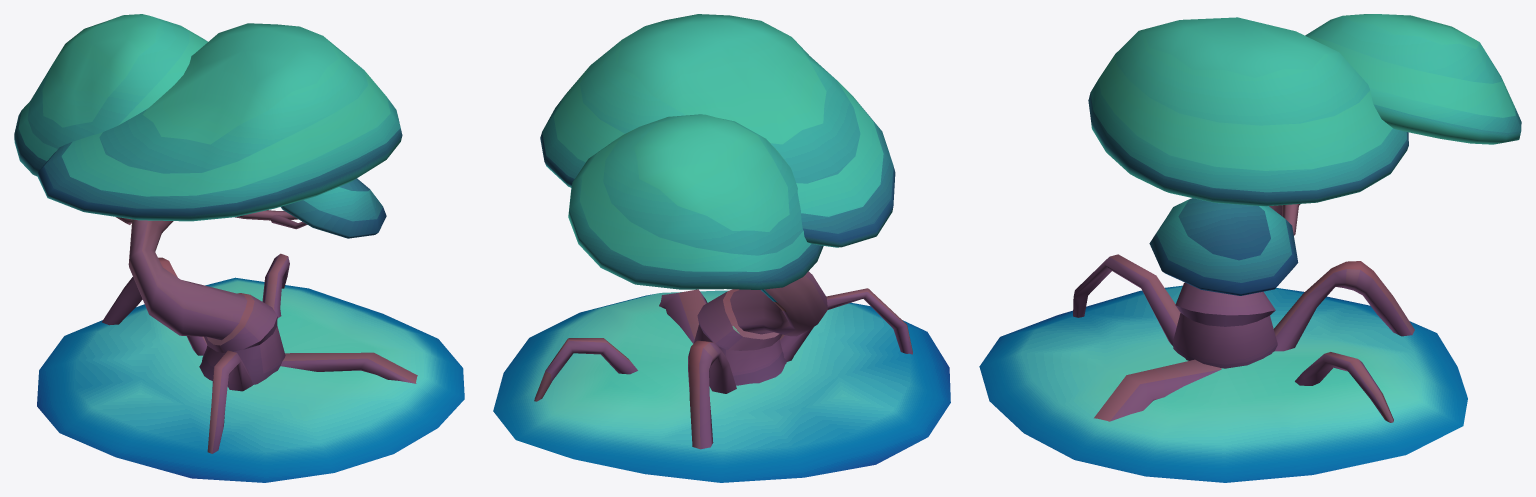
File: TreeJungle.fbx
The picture shows the model from 3 angles, left to right: view 1: azimuth 30°, elevation 25°; view 2: azimuth 150°, elevation 25°; view 3: azimuth 270°, elevation 25°; orthographic projection. The views are drawn at different scales.
Parts seen in each view (by area): view 1: pCylinder215; view 2: pCylinder215; view 3: pCylinder215.
Part boxes in pixels (x1,y1,x2,y2): pCylinder215: [14, 14, 464, 482]; pCylinder215: [493, 14, 950, 482]; pCylinder215: [979, 14, 1521, 482].
Size of the model in its own units: 13.68 by 12.28 by 15.39.
